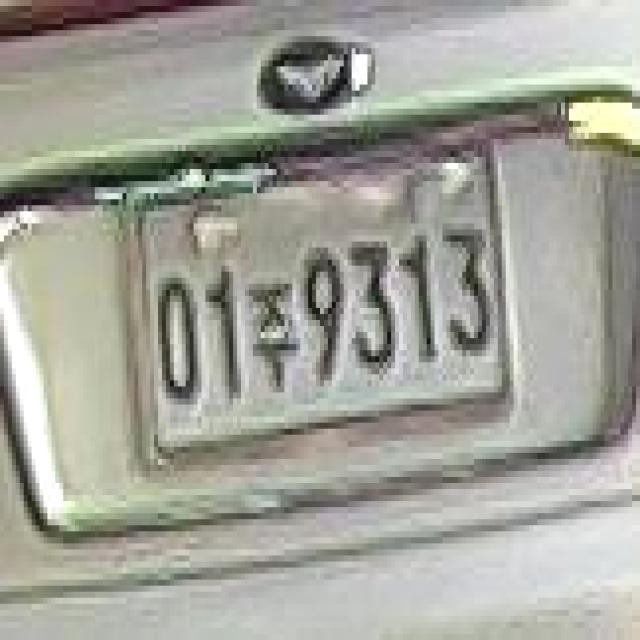illegal_plate: (126, 145, 517, 461)
